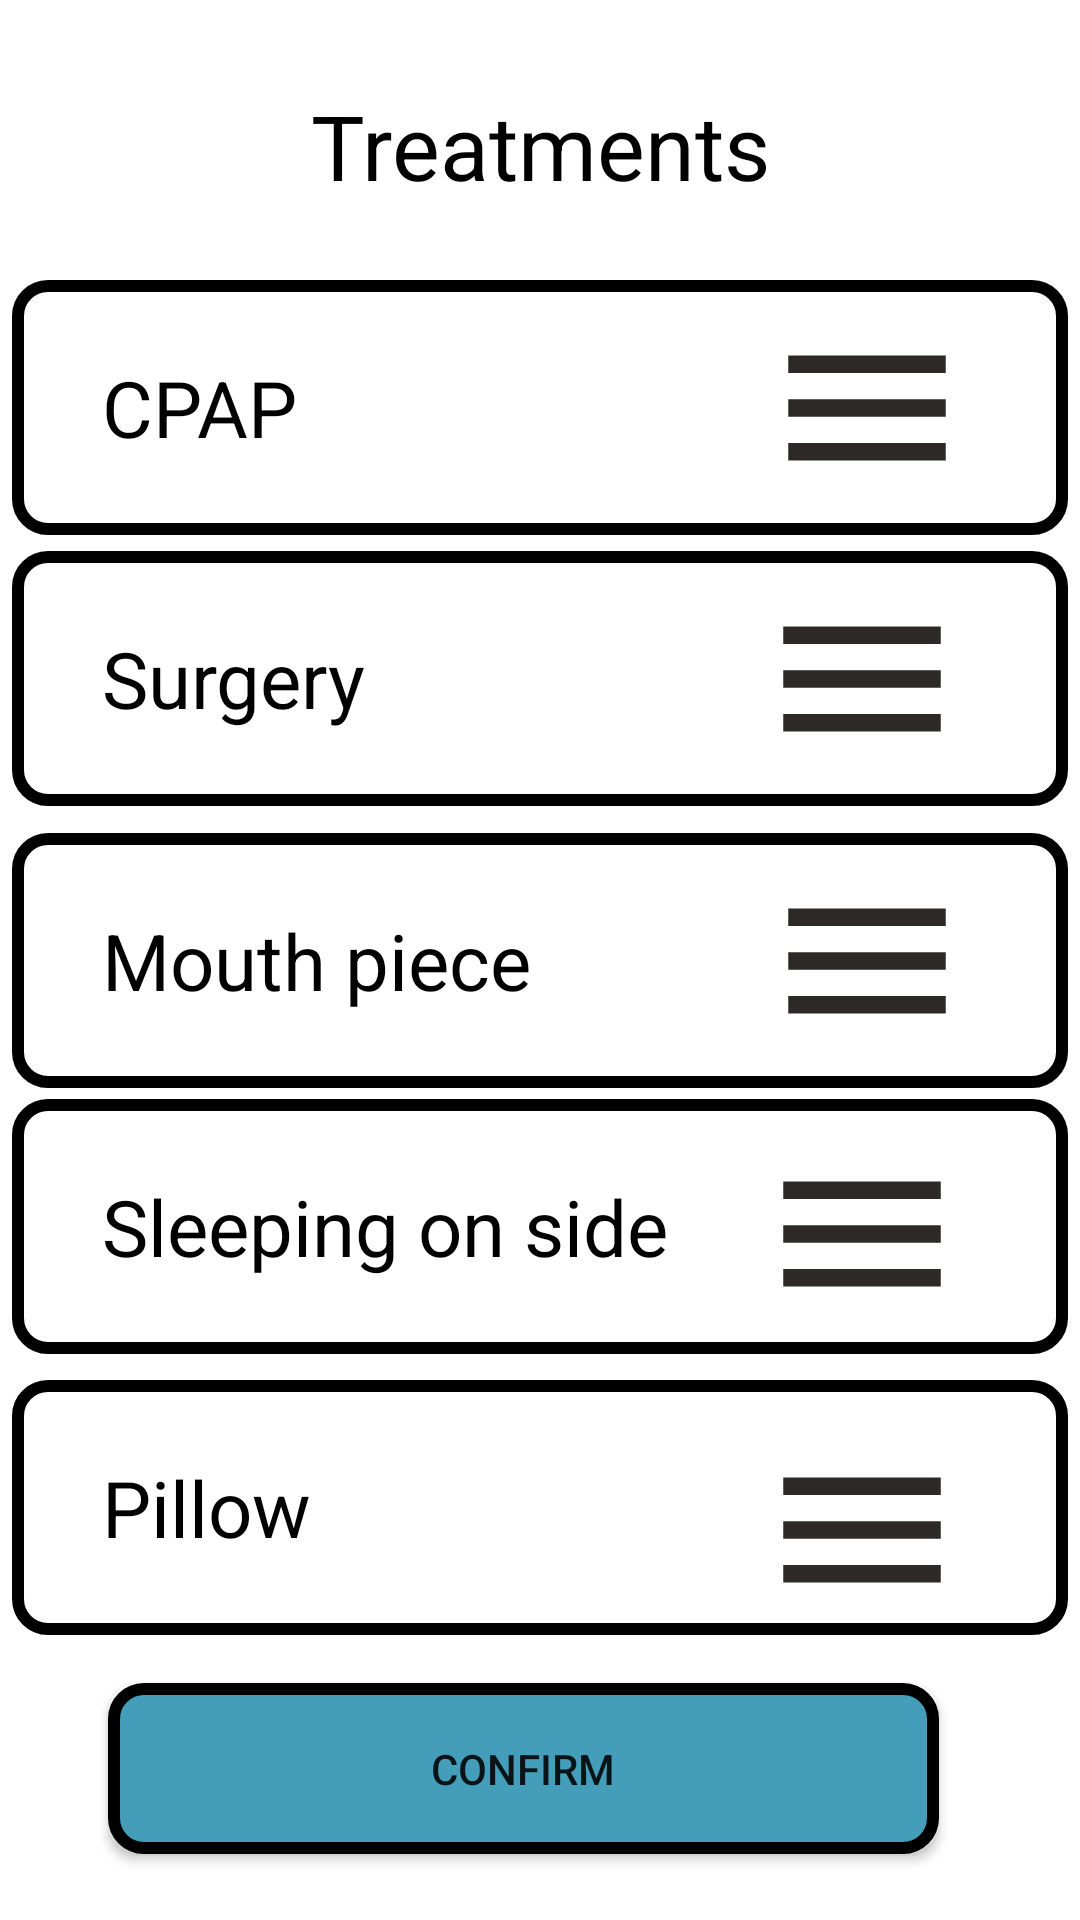

Screen size 1080x1920. Icon name, then its box in pixels as {"x1": x1, "y1": y1, "x2": x2, "y2": y2}:
menu: {"x1": 788, "y1": 355, "x2": 946, "y2": 461}, {"x1": 783, "y1": 626, "x2": 941, "y2": 732}, {"x1": 788, "y1": 908, "x2": 946, "y2": 1014}, {"x1": 783, "y1": 1181, "x2": 941, "y2": 1287}, {"x1": 783, "y1": 1477, "x2": 941, "y2": 1583}
